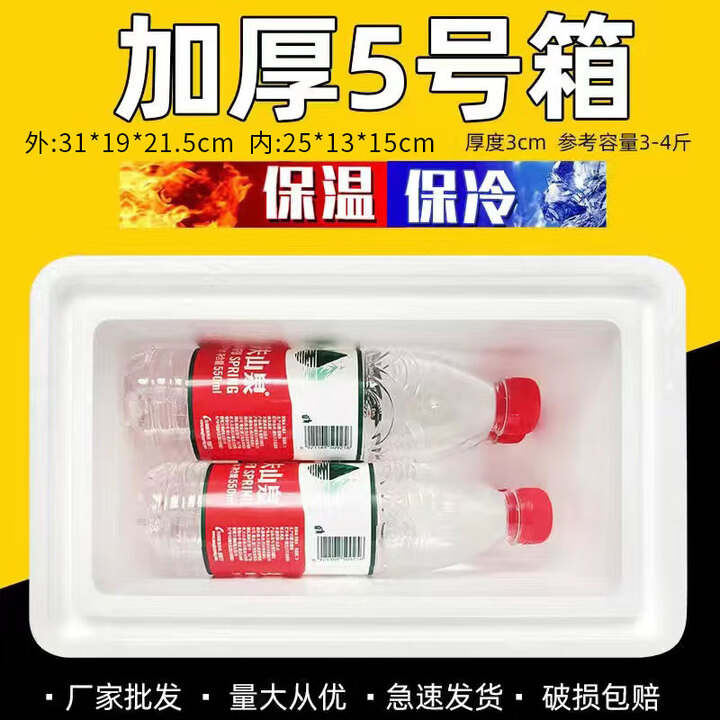泡沫箱: (30, 257, 686, 656)
